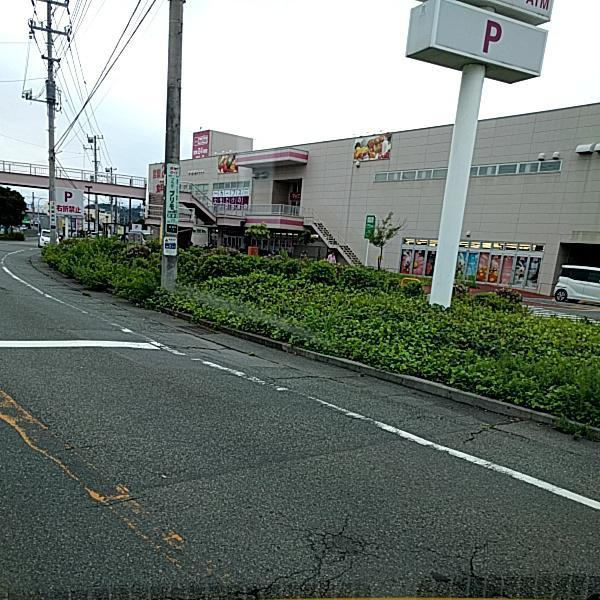D00: (459, 424, 486, 450)
D20: (239, 497, 512, 595)
D44: (211, 357, 388, 446), (37, 305, 213, 385)
